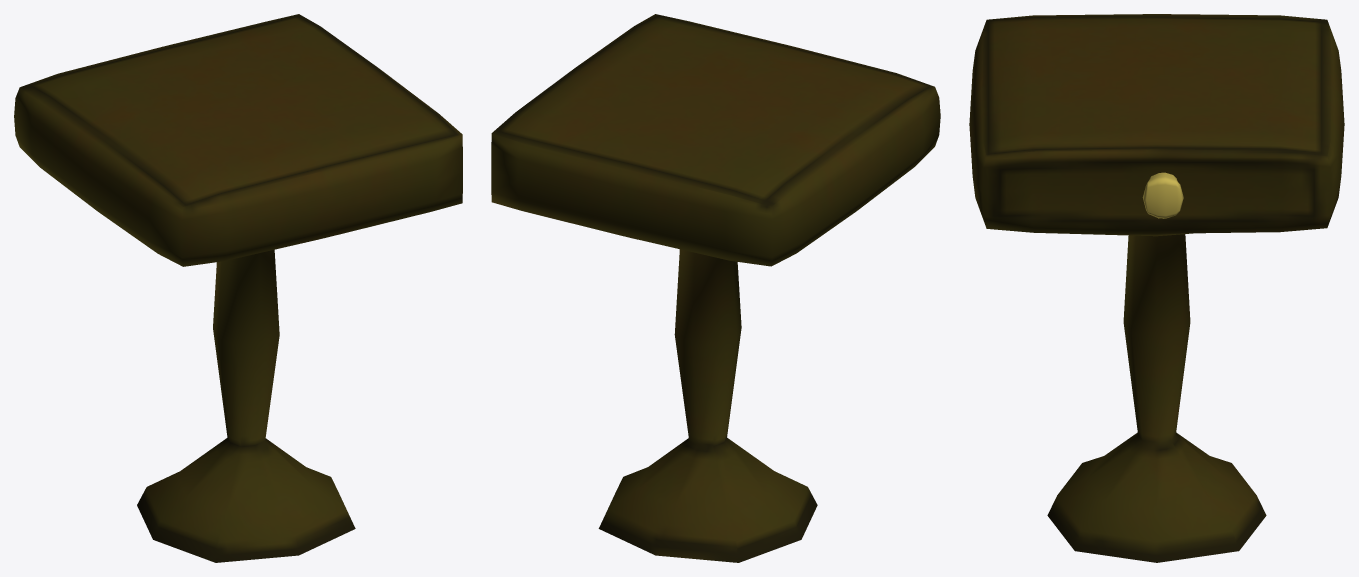
The model's file is drawer.fbx.
3 renders of one model, left to right at view 1: azimuth 30°, elevation 25°; view 2: azimuth 150°, elevation 25°; view 3: azimuth 270°, elevation 25°, orthographic. The views are drawn at different scales.
Parts seen in each view (by area): view 1: polySurface471; view 2: polySurface471; view 3: polySurface471.
Part boxes in pixels (x1,y1,x2,y2): polySurface471: [14, 14, 462, 562]; polySurface471: [491, 14, 940, 562]; polySurface471: [969, 14, 1344, 562].
Bounding box in the file's own units: 0.6413 × 0.8186 × 0.6358.
1 material, 1 textured.
